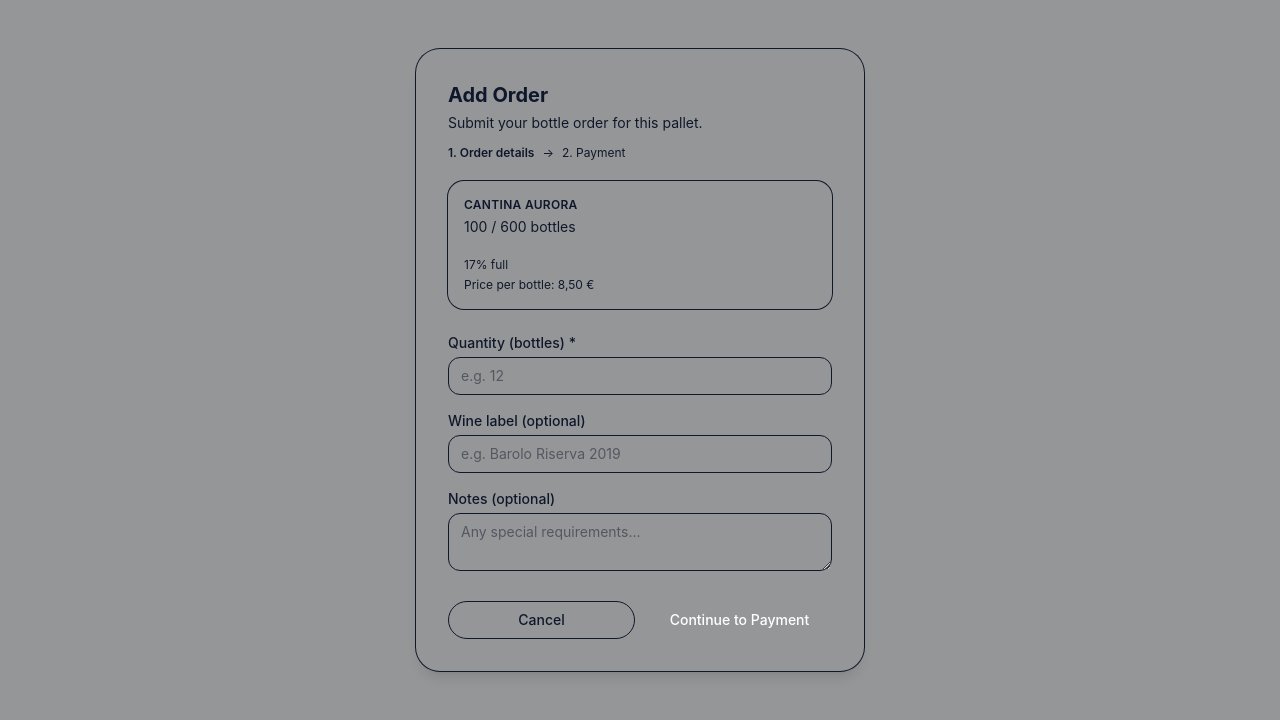
Test: AddOrderModal › shows amount preview when quantity is valid
Type "6" into the number field labelled "Quantity (bottles) *" at [640, 376], box [448,357,832,395]
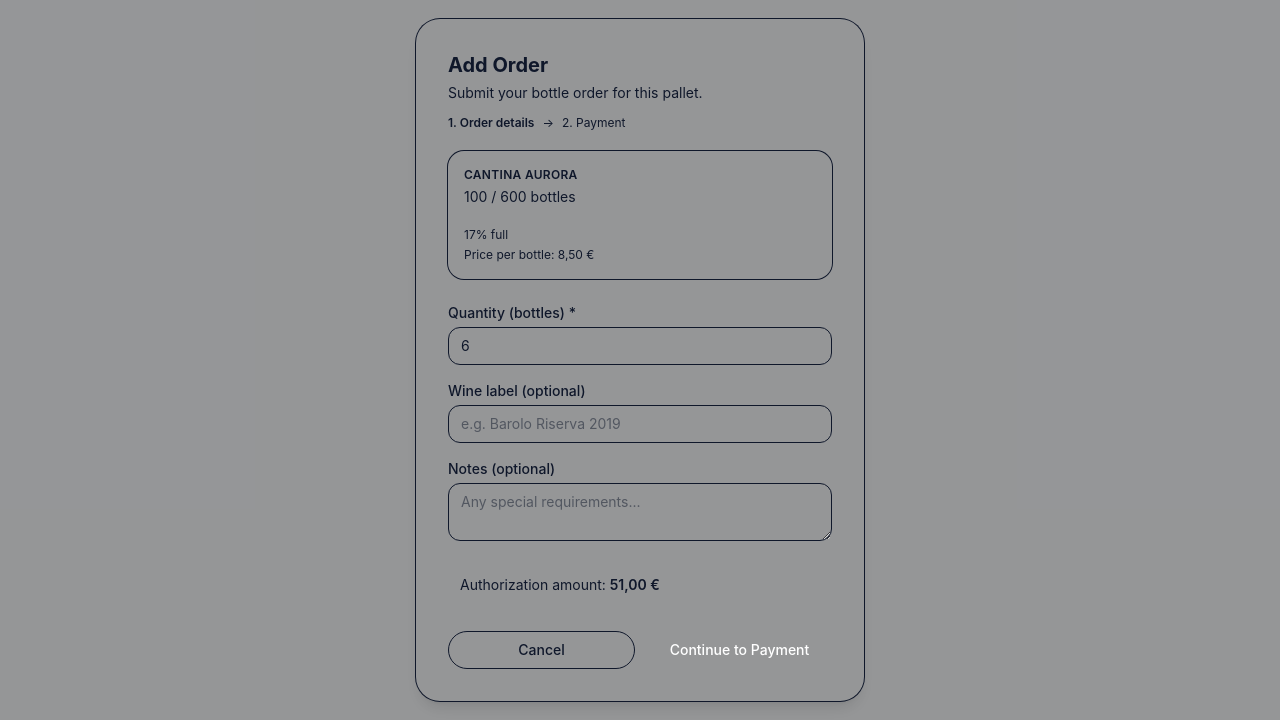
Now the text "Authorization amount: 51,00 €" is shown, box [460,576,660,593]
